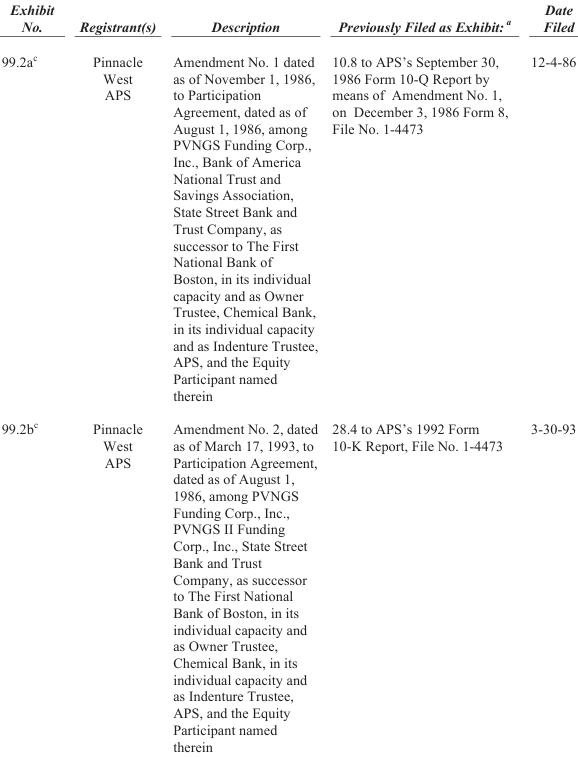table: (0, 1, 575, 753)
table column: (324, 1, 520, 753), (163, 1, 324, 753), (65, 1, 163, 753), (0, 1, 65, 753), (520, 1, 575, 753)
table column header: (0, 1, 575, 42)
table row: (0, 42, 575, 410), (0, 410, 575, 753), (0, 1, 575, 42)
